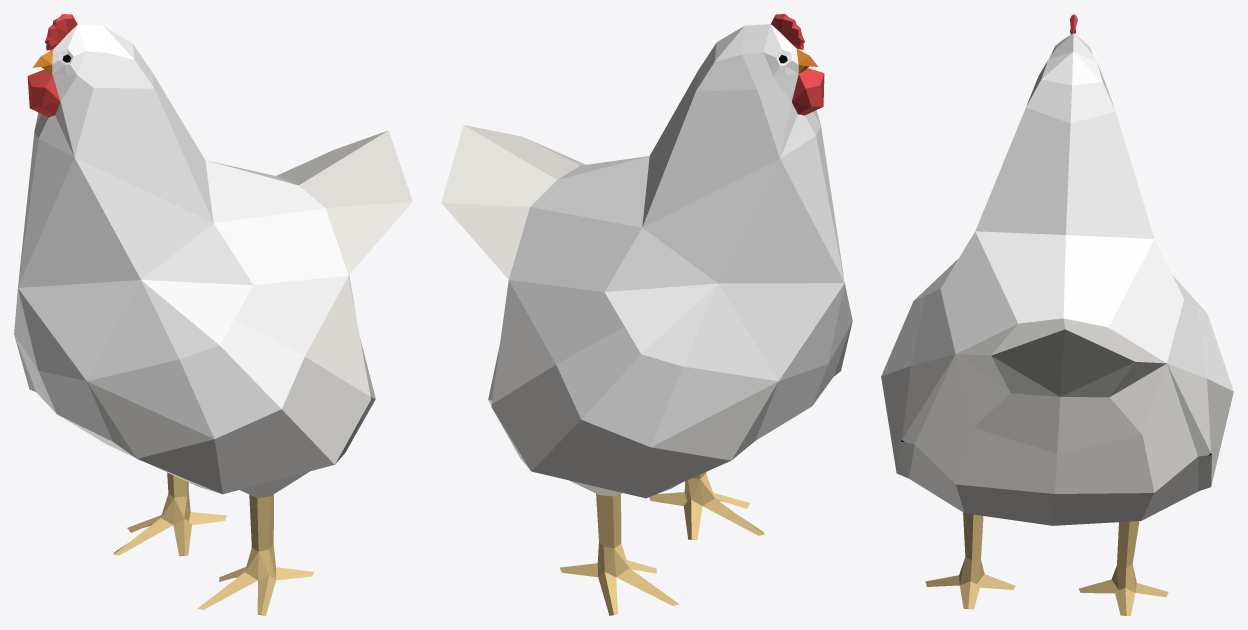
3 views of the same model, side by side, from view 1: azimuth 30°, elevation 25°; view 2: azimuth 150°, elevation 25°; view 3: azimuth 270°, elevation 25° (orthographic). The views are drawn at different scales.
Visible parts, largest first — view 1: node_chicken_-4772; view 2: node_chicken_-4772; view 3: node_chicken_-4772.
Boxes of the visible parts, x1=… form: node_chicken_-4772: x1=14, y1=14, x2=412, y2=615; node_chicken_-4772: x1=441, y1=14, x2=852, y2=615; node_chicken_-4772: x1=881, y1=14, x2=1233, y2=615.
Size of the model in its own units: 0.4728 by 0.7077 by 0.4275.
